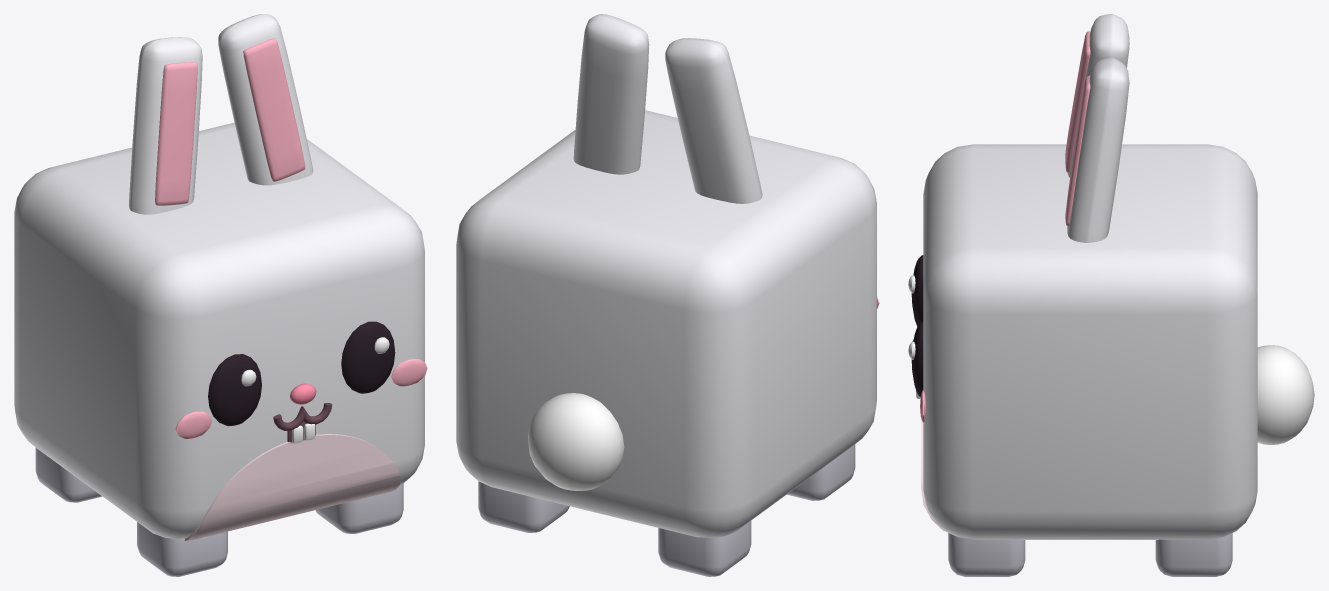
The model's file is Bunny.glb.
The picture shows the model from 3 angles, left to right: view 1: azimuth 30°, elevation 25°; view 2: azimuth 150°, elevation 25°; view 3: azimuth 270°, elevation 25°; orthographic projection. The views are drawn at different scales.
Visible parts, largest first — view 1: Bunny; view 2: Bunny; view 3: Bunny.
Part boxes in pixels (box(x1,y1,x2,y2)): Bunny: box(14, 14, 427, 576); Bunny: box(456, 14, 879, 576); Bunny: box(908, 14, 1314, 576).
Size of the model in its own units: 2 by 3.17 by 2.43.
1 material, 1 textured.
